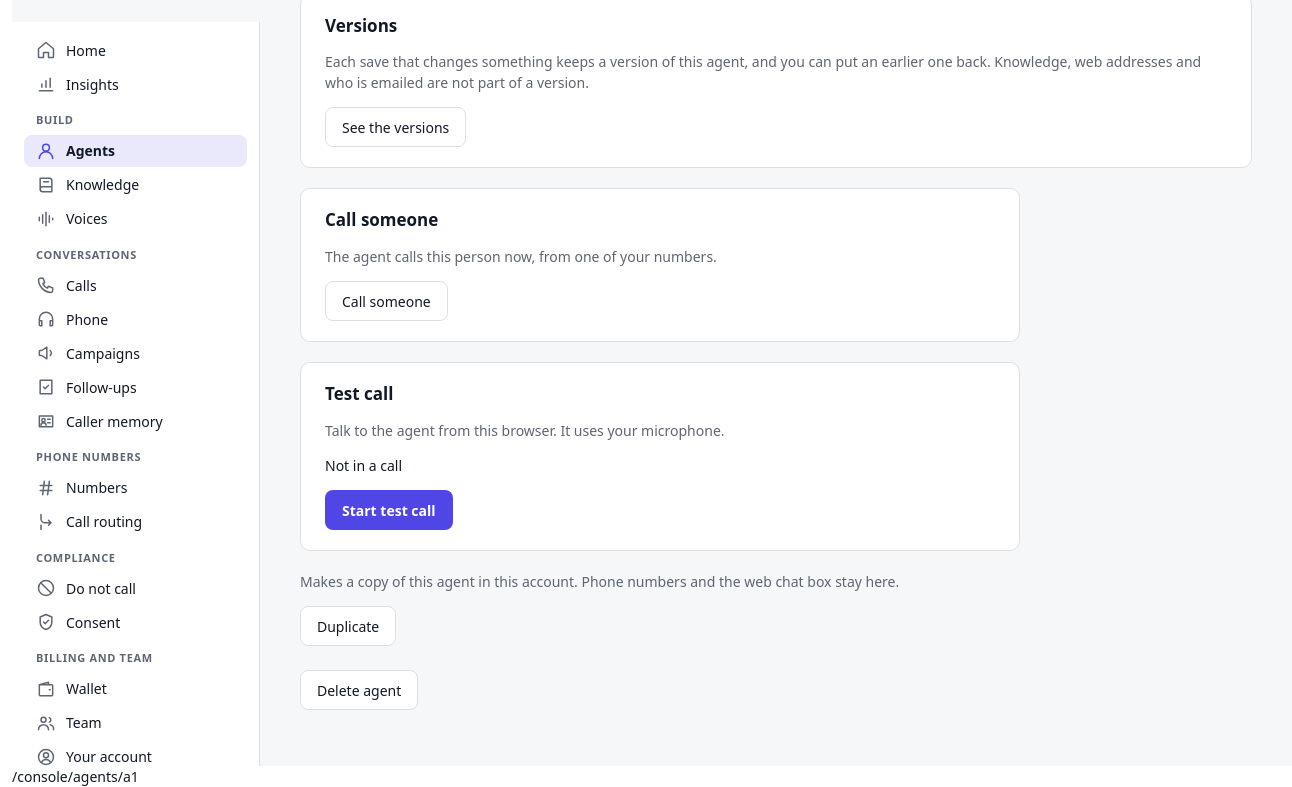
duplicating an agent › shows a 404 refusal's message by the button, and stays on the agent's page
The image size is (1292, 787).
(page scrolled)
Click the button "Duplicate" at [348, 626], box 300,606 -> 396,646
(page scrolled)
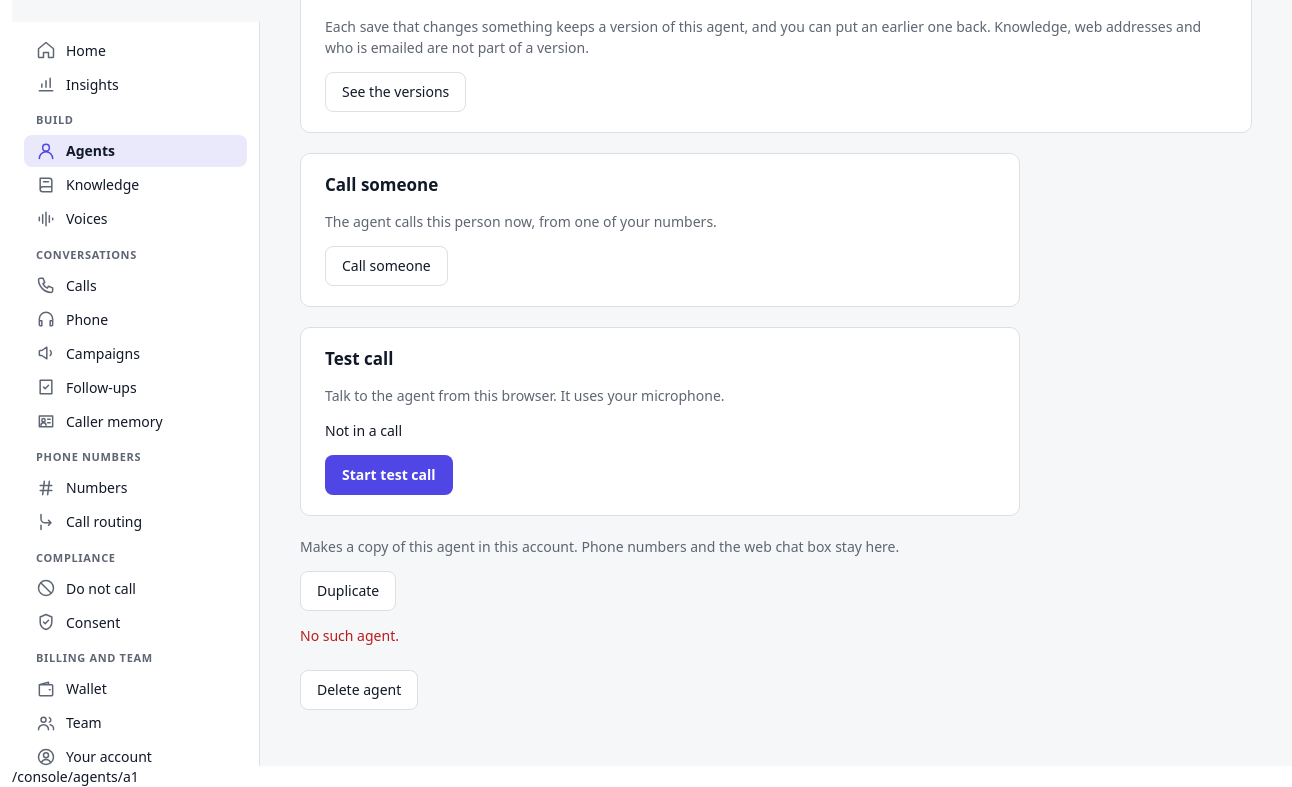
Check: the button "Duplicate" is enabled, box 300,571 -> 396,611
Check: the message "No such agent." is shown, box 300,626 -> 399,645
